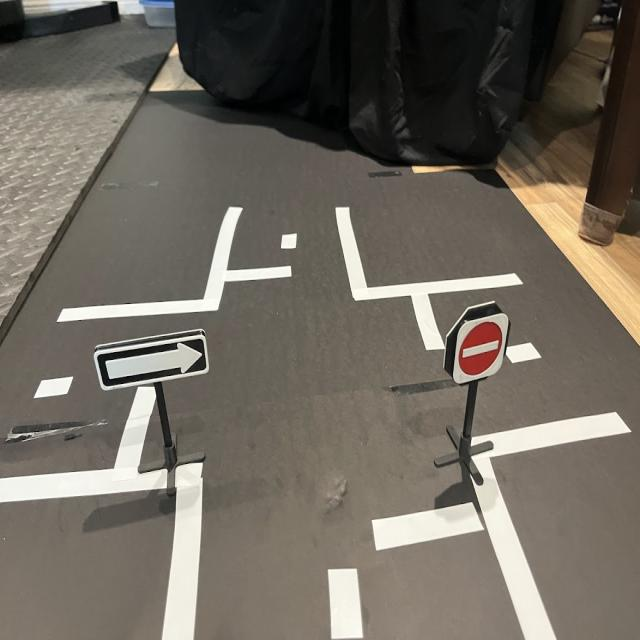sign_noentry: (452, 311, 513, 390)
sign_oneway_right: (93, 324, 213, 394)
